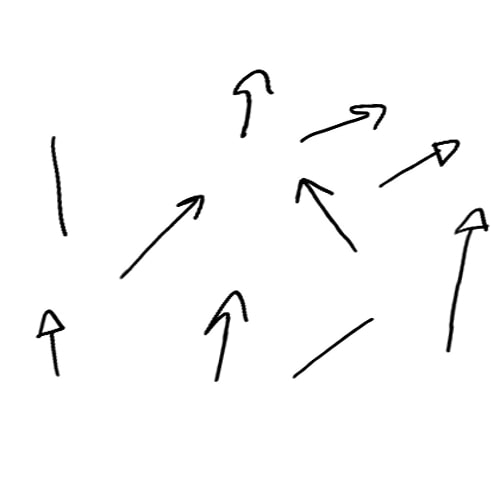arrow: (117, 194, 206, 277), (438, 208, 488, 347), (295, 178, 358, 251), (376, 138, 460, 190), (201, 288, 249, 378), (301, 103, 389, 140), (230, 69, 275, 136), (34, 309, 71, 380)
arrownohead: (291, 315, 376, 378), (46, 135, 70, 236)
